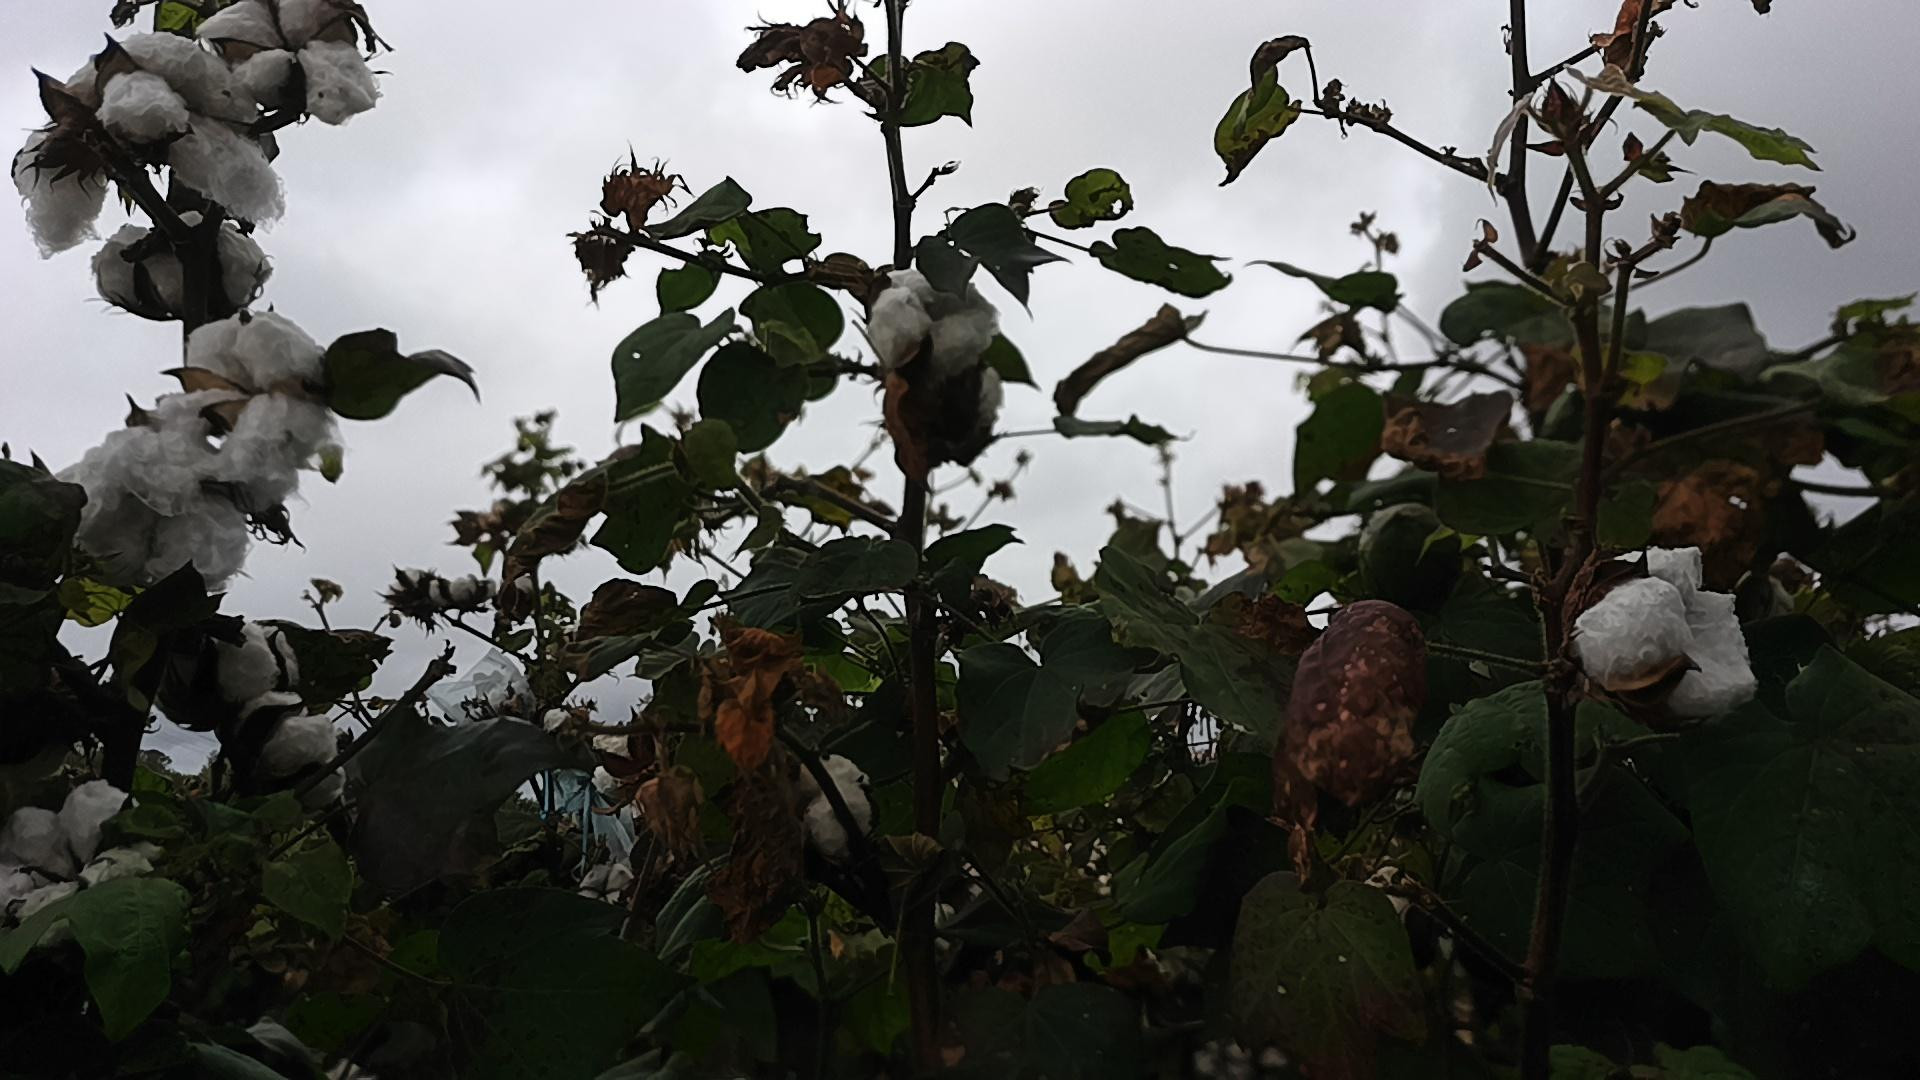cotton_ready: (55, 426, 255, 626), (96, 25, 287, 223), (1568, 542, 1763, 725), (162, 309, 328, 493), (0, 775, 164, 936), (862, 265, 1004, 439), (193, 0, 381, 117), (92, 208, 268, 326), (12, 59, 112, 256), (141, 618, 295, 731), (193, 1015, 376, 1080), (233, 699, 343, 793), (791, 745, 878, 862)
